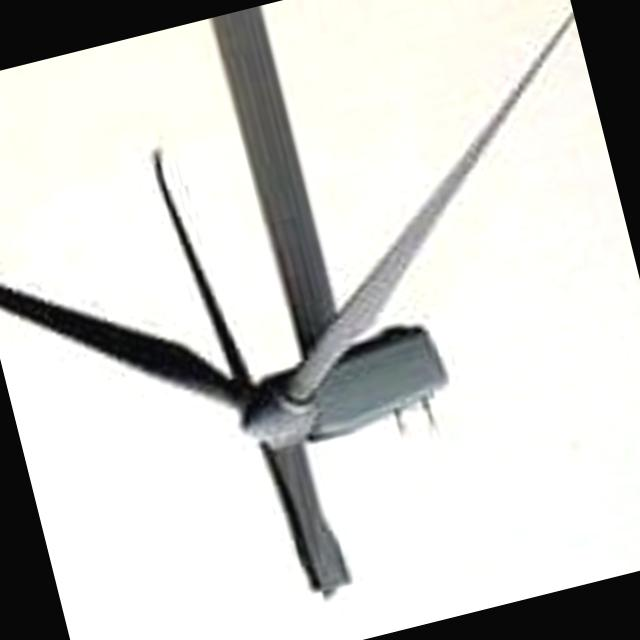crack: (134, 113, 372, 628)
